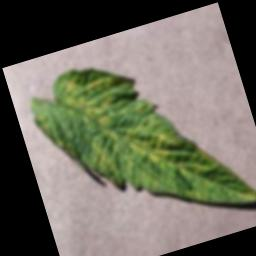Leaf_Mold: (25, 26, 256, 256)
